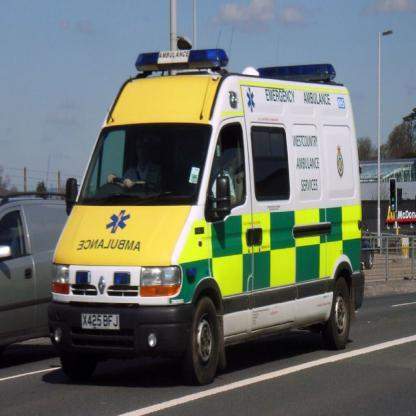Ambulance - v1 Ambulance last generate: (46, 25, 366, 385)
